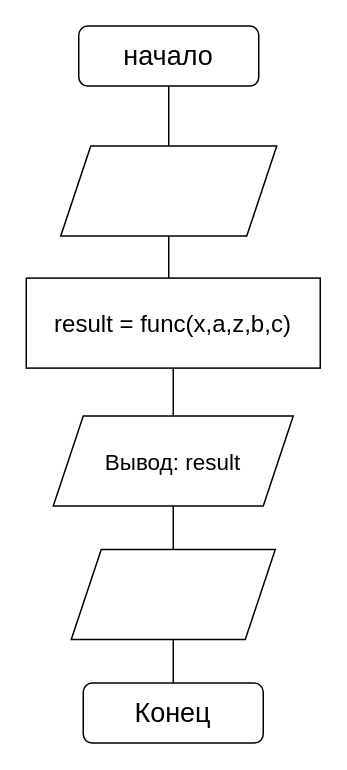
Some shapes in this 347 by 770 pixel diagram are drawn without their labels. Each missing label, with the centre of its shape:
Ввод: x,a,z,b,c: [168,190]
Вывод result в файл: [172,594]
